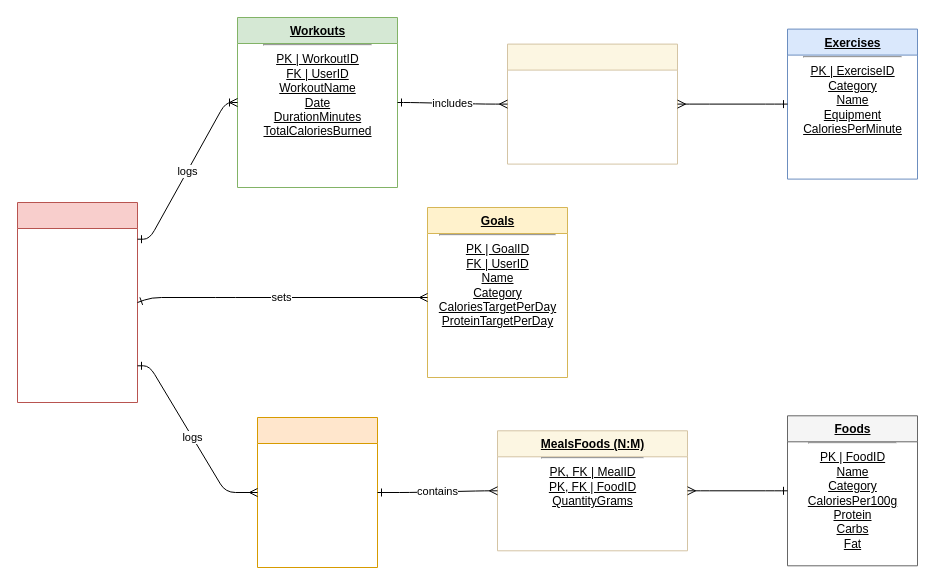
Image size: 935x585. Some labels were removed from this diagram. Each missing label, with the centre of its shape:
"Meals PK | MealID FK | UserID Date MealType TotalCalories" goes at point (317, 492).
"Users PK | UserID Name Email Password Age Gender Height Weight JoinDate" goes at point (77, 302).
"WorkoutExercises (N:M) PK, FK | WorkoutID PK, FK | ExerciseID Sets Reps Weight" goes at point (592, 103).
